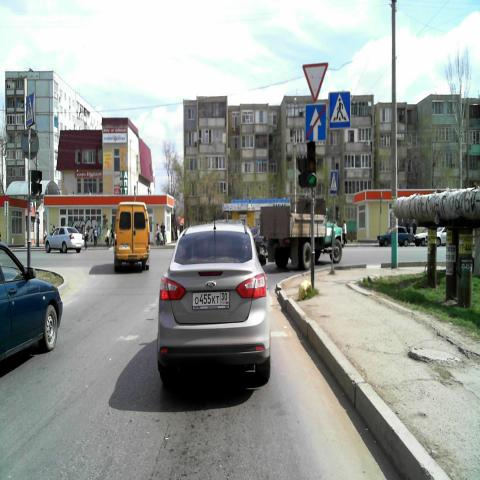2_4: (302, 63, 328, 103)
5_19_1: (329, 90, 351, 129), (24, 93, 34, 127), (330, 170, 338, 194)
5_6: (305, 102, 327, 140)
